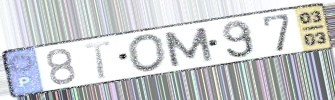7: (261, 12, 292, 53)
8: (45, 47, 77, 86)
9: (220, 19, 258, 60)
M: (160, 25, 216, 69)
O: (125, 32, 169, 74)
T: (81, 39, 114, 81)
